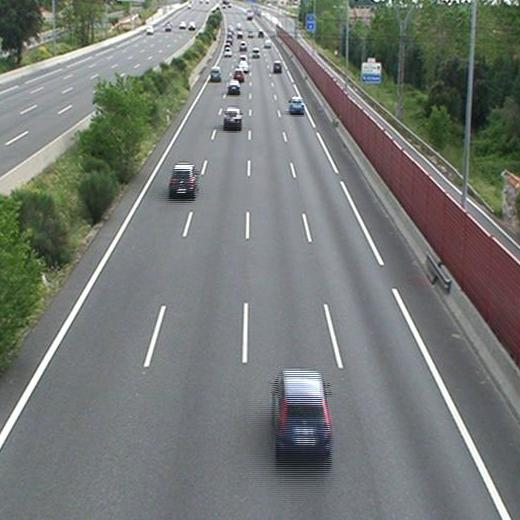car: (274, 371, 330, 448), (169, 165, 195, 193), (224, 108, 242, 127), (289, 96, 303, 113), (227, 80, 239, 92), (210, 67, 221, 80), (233, 70, 245, 80), (237, 59, 248, 69), (250, 48, 260, 57), (273, 62, 282, 71), (223, 48, 232, 56)
